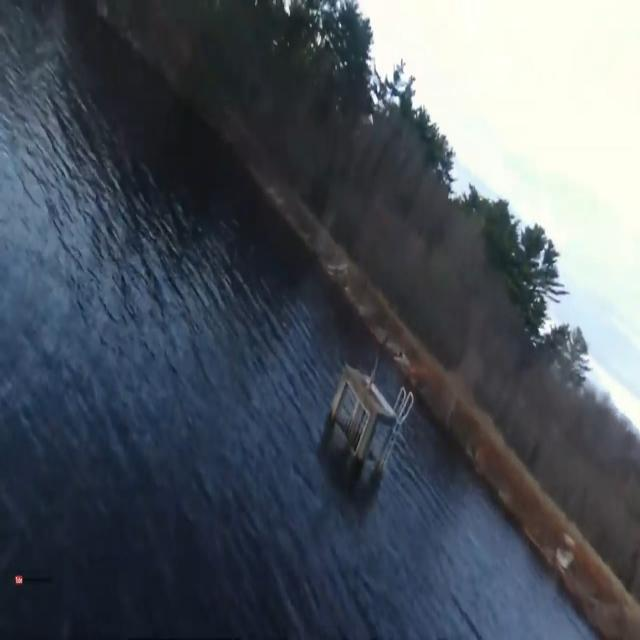Building: (325, 356, 415, 480)
Tree: (422, 204, 568, 389), (334, 69, 454, 269), (242, 2, 368, 174)
